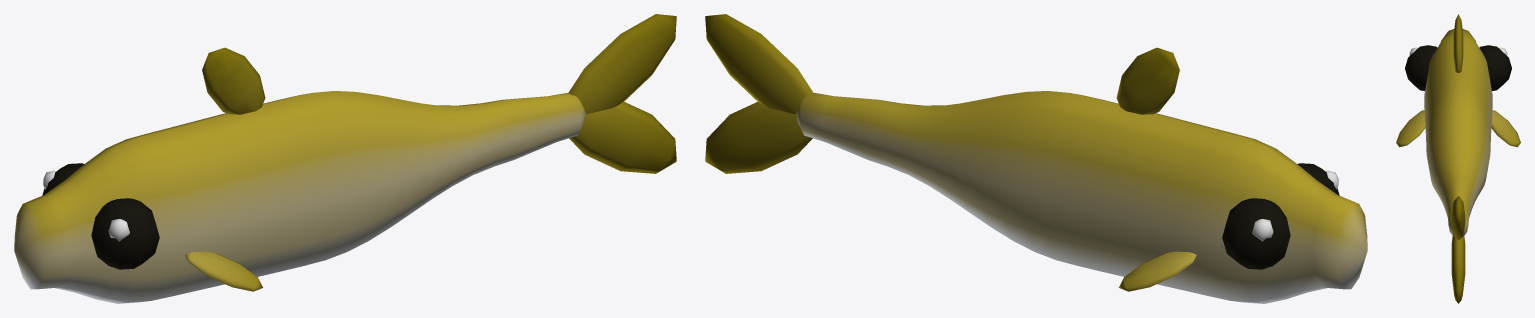
File: Golden_Fish.glb
3 renders of one model, left to right at view 1: azimuth 30°, elevation 25°; view 2: azimuth 150°, elevation 25°; view 3: azimuth 270°, elevation 25°, orthographic. The views are drawn at different scales.
Visible parts, largest first — view 1: Bluefish; view 2: Bluefish; view 3: Bluefish.
Part boxes in pixels (bbox=[...]): Bluefish: bbox=[14, 14, 676, 303]; Bluefish: bbox=[705, 14, 1367, 303]; Bluefish: bbox=[1396, 14, 1520, 303].
Size of the model in its own units: 1.24 by 0.4234 by 0.3152.
